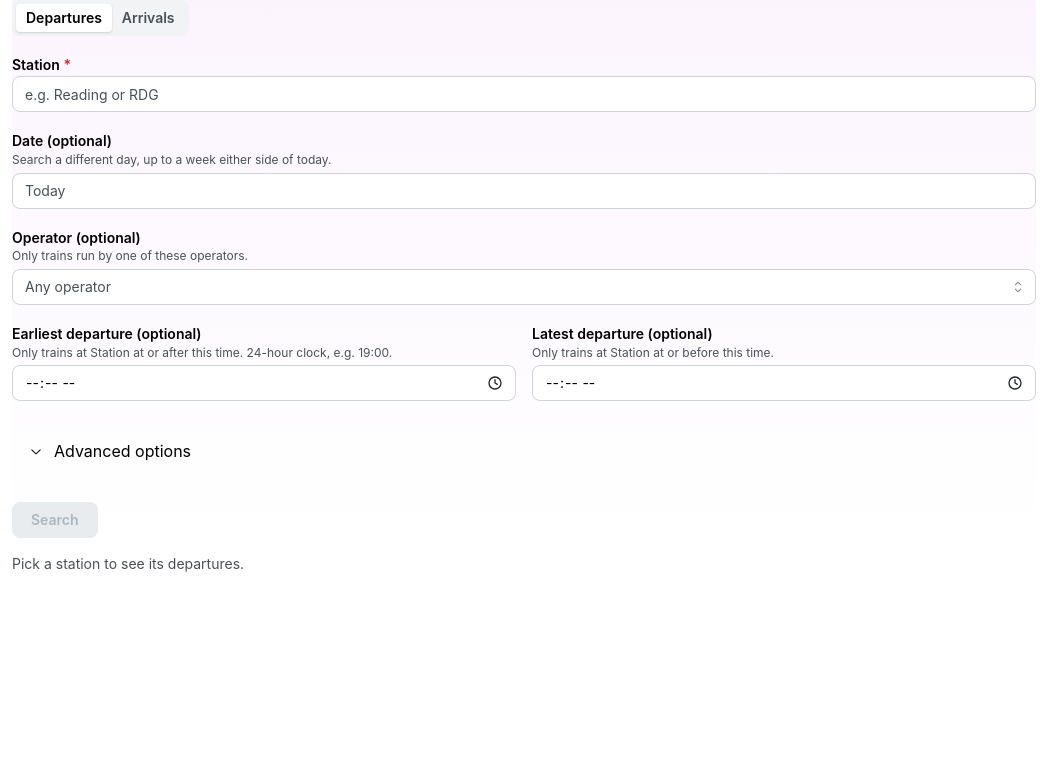
Test: TrainSearchForm › shows an accessible "no matches" option instead of hiding the listbox when a search matches nothing
The image size is (1048, 768).
Step 1. Type "zzzzzz" into the dropdown labelled "Station" → (524, 94), box top-left (12, 76), bottom-right (1036, 112)
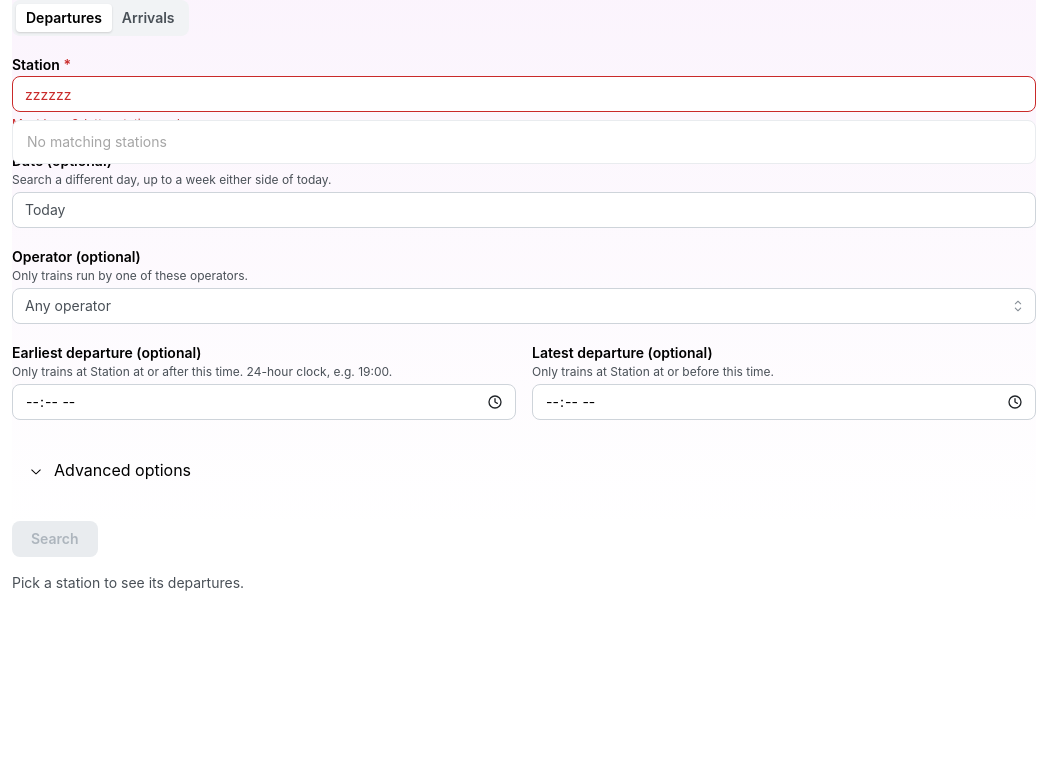
Check: the option "No matching stations" is shown, box top-left (27, 134), bottom-right (167, 150)
